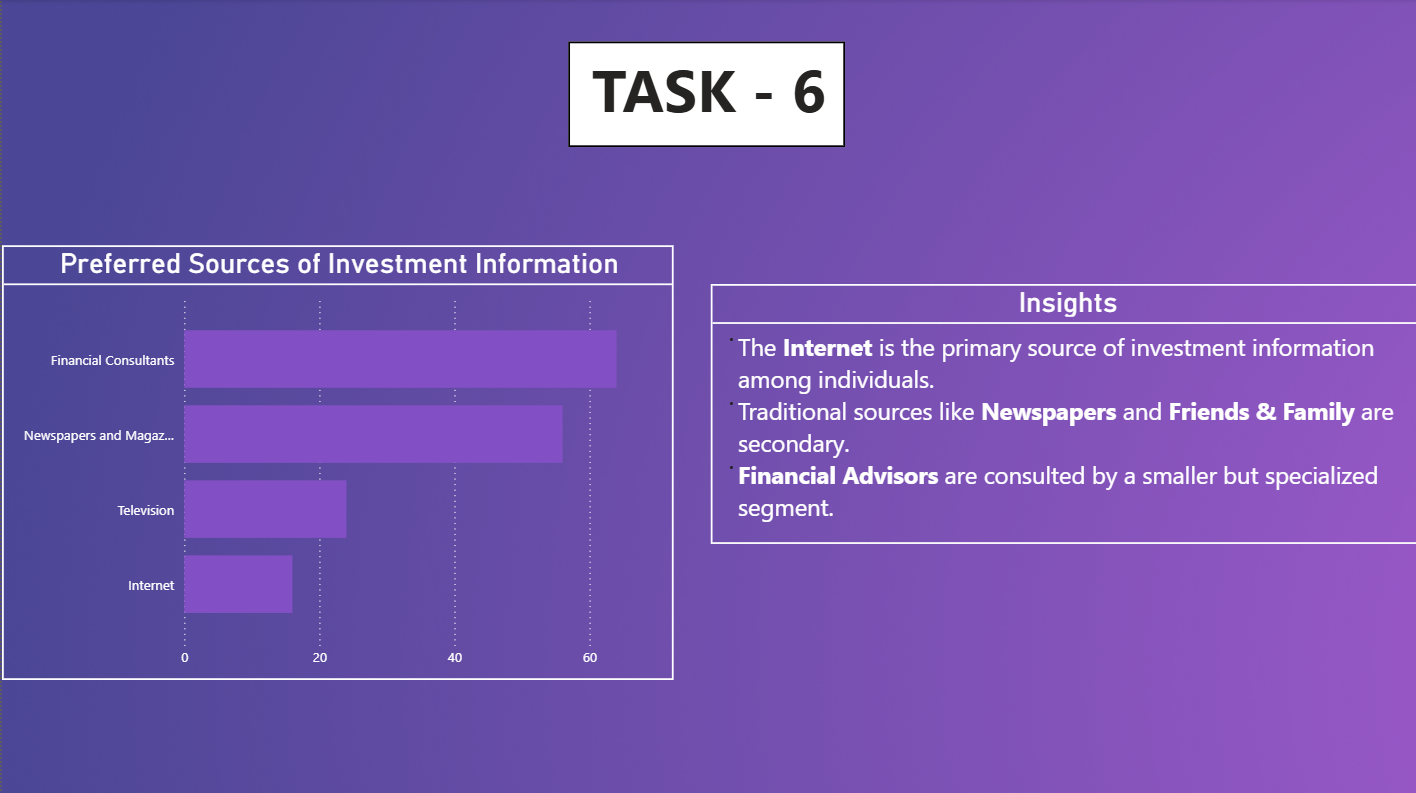

This screenshot's page, from the dashboard's own definition file:
{"tool":"powerbi","page":{"name":"Task 6","canvas":[1280,720],"ordinal":5},"visuals":[{"type":"clusteredBarChart","title":"Preferred Sources of Investment Information","fields":{"Category":["Data_set 2.Source"],"Y":["CountNonNull(Data_set 2.Source)"]},"box":[0,222,605.3,392.2],"z":0},{"type":"textbox","title":"Insights","box":[639.1,257,641.3,234.4],"z":1000},{"type":"textbox","box":[511.1,37.9,249.5,95.4],"z":2000}]}

Visuals, with their boxes in screenshot pixels (x1, y1, x2, y2), scaled from the page's 1280x720 canvas onto the 1416x793 screenshot:
"Preferred Sources of Investment Information" clusteredBarChart: 0:245:670:676
"Insights" textbox: 707:283:1415:541
textbox: 565:42:841:147
